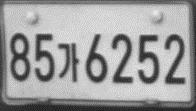2: (163, 32, 186, 84), (110, 32, 133, 83)
5: (137, 33, 160, 84), (34, 33, 55, 82)
6: (84, 32, 108, 82)
8: (9, 32, 30, 81)
가: (57, 42, 80, 82)
